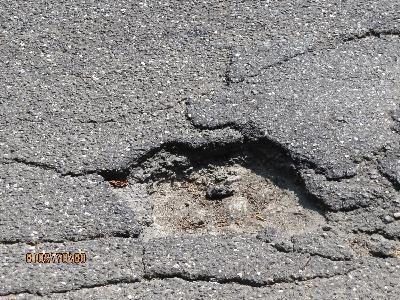pothole: (97, 130, 335, 242)
